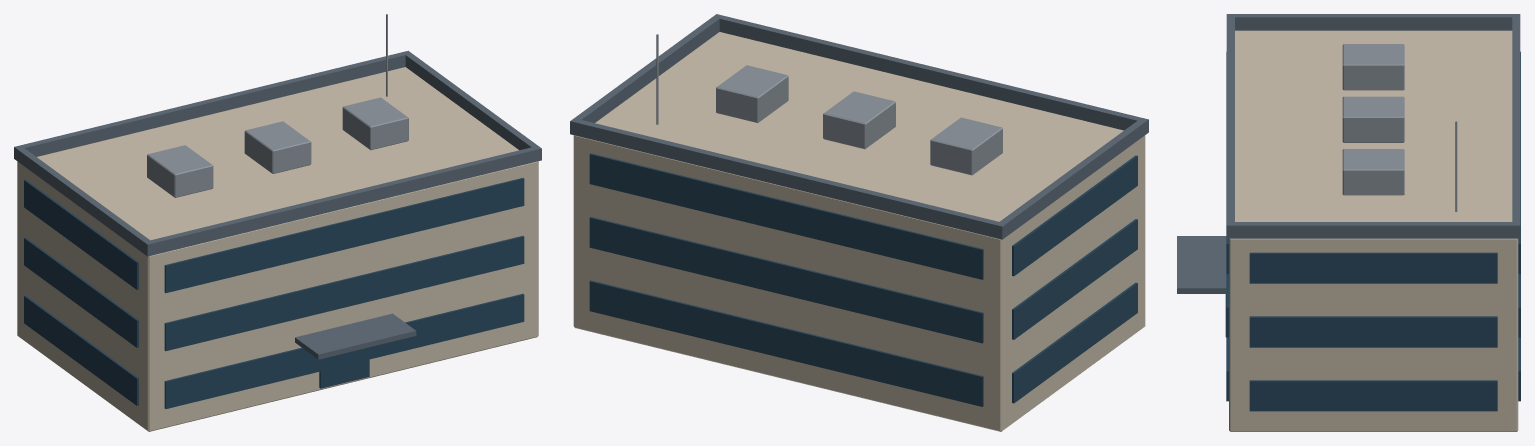
Rendered from Scenery_Office.fbx.
The picture shows the model from 3 angles, left to right: view 1: azimuth 30°, elevation 25°; view 2: azimuth 150°, elevation 25°; view 3: azimuth 270°, elevation 25°; orthographic projection. The views are drawn at different scales.
Visible parts, largest first — view 1: Scenery_Office; view 2: Scenery_Office; view 3: Scenery_Office.
Part boxes in pixels (x1=…): Scenery_Office: x1=14, y1=14, x2=541, y2=431; Scenery_Office: x1=570, y1=14, x2=1148, y2=431; Scenery_Office: x1=1177, y1=14, x2=1520, y2=431.
Size of the model in its own units: 24.24 by 15.2 by 16.62.
